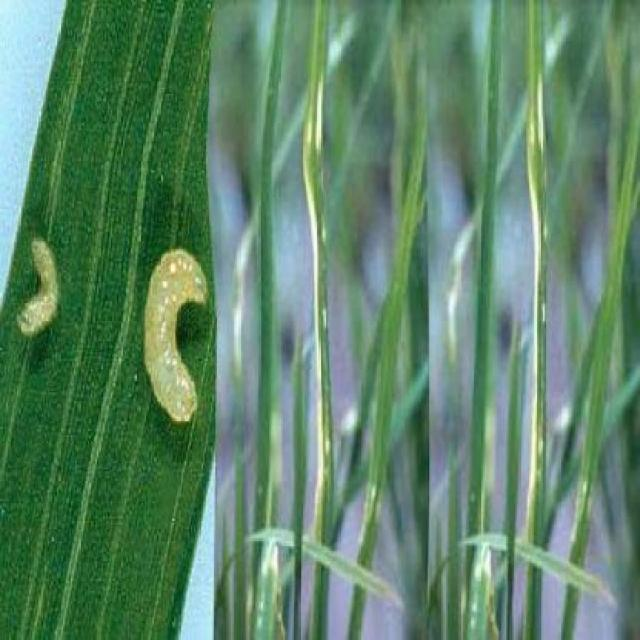whorl-maggot: (142, 226, 212, 437), (19, 220, 63, 357)
